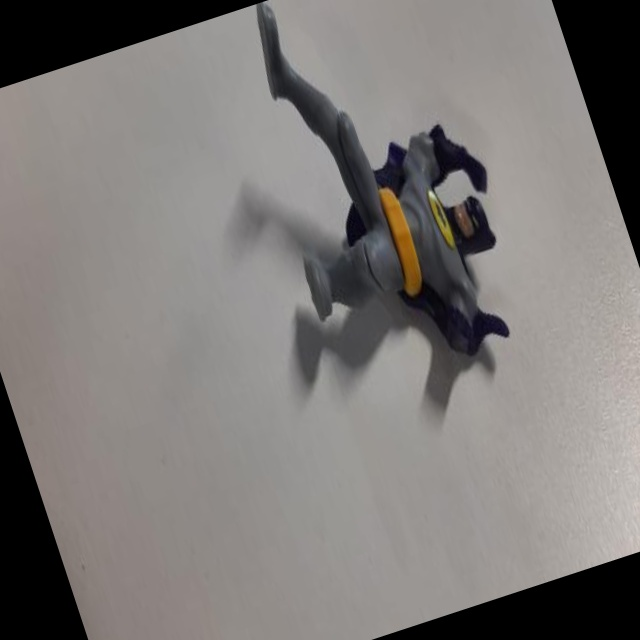Batman: (212, 0, 544, 417)
